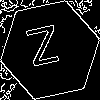Z: (25, 25, 64, 76)
